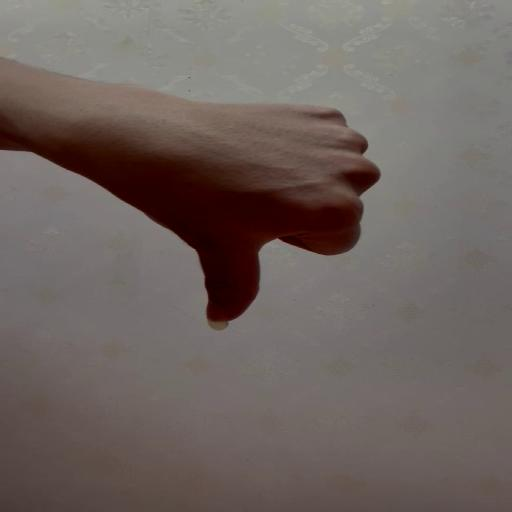thumbs_down: (102, 102, 380, 331)
